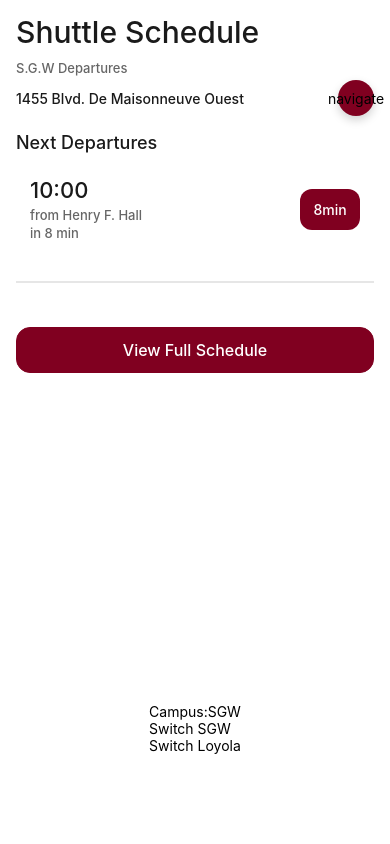
Test: ShuttleInfoPage › highlights the next weekday row and strikes through past weekday departures in full schedule view
The image size is (390, 844).
Click the text "View Full Schedule": [195, 350] box x1=123 y1=340 x2=267 y2=360
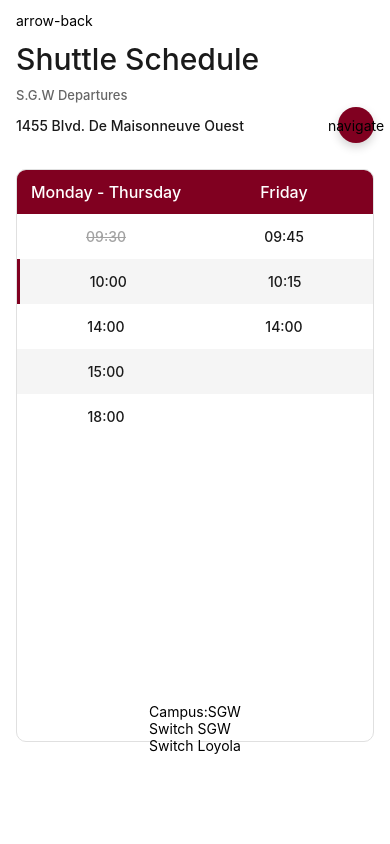
Now the text "Monday - Thursday" is shown, box x1=31 y1=182 x2=181 y2=202
